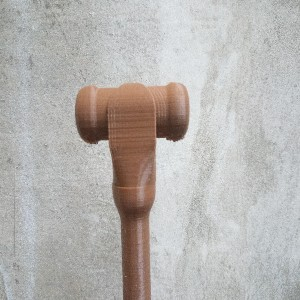palu: (74, 80, 190, 300)
